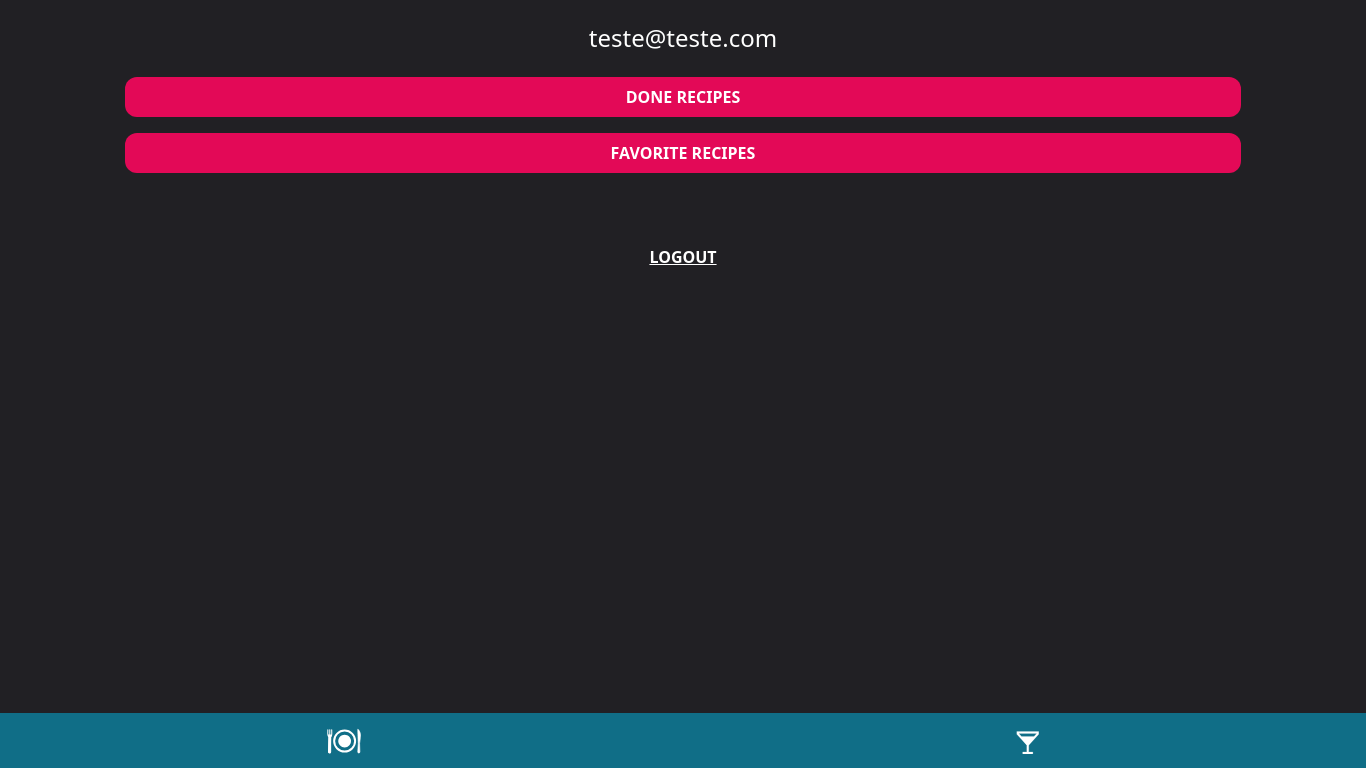
Scenario: Testa a Página Profile › Ao clicar no botão de Logout limpa os dados do localStorage e redireciona para rota "/"
The image size is (1366, 768).
Expected: the button "Done Recipes" is shown, [125,77,1241,117]
Expected: the button "Favorite Recipes" is shown, [125,133,1241,173]
Click the button "Logout": (683, 257) [125,237,1241,277]
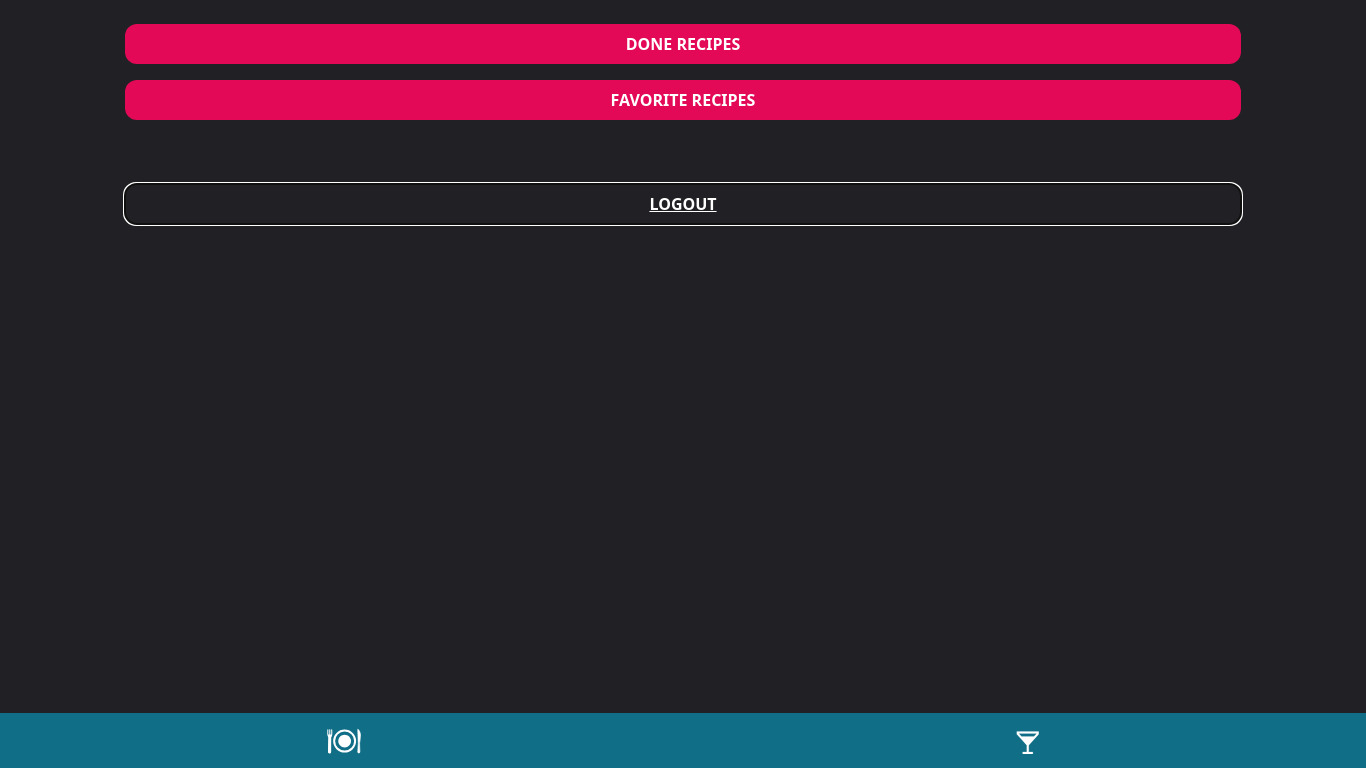
Expected: the heading "teste@teste.com" is gone
